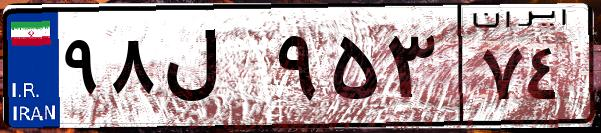3: (385, 28, 445, 110)
4: (525, 38, 570, 115)
5: (330, 28, 385, 110)
7: (475, 38, 525, 113)
8: (110, 28, 158, 98)
9: (270, 28, 330, 110), (57, 26, 110, 100)
ل: (158, 20, 270, 120)
